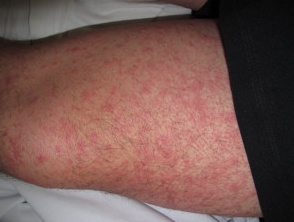SJS-TEN: (0, 14, 269, 219)
